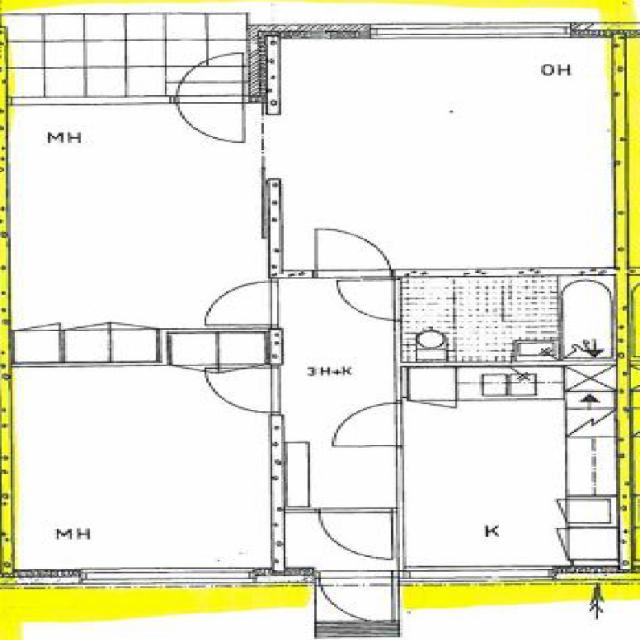door: (321, 568, 394, 633), (318, 218, 392, 276), (321, 508, 393, 561), (204, 368, 284, 412), (178, 95, 244, 146), (178, 51, 244, 102), (208, 283, 284, 324), (333, 404, 403, 446), (336, 280, 402, 320)
